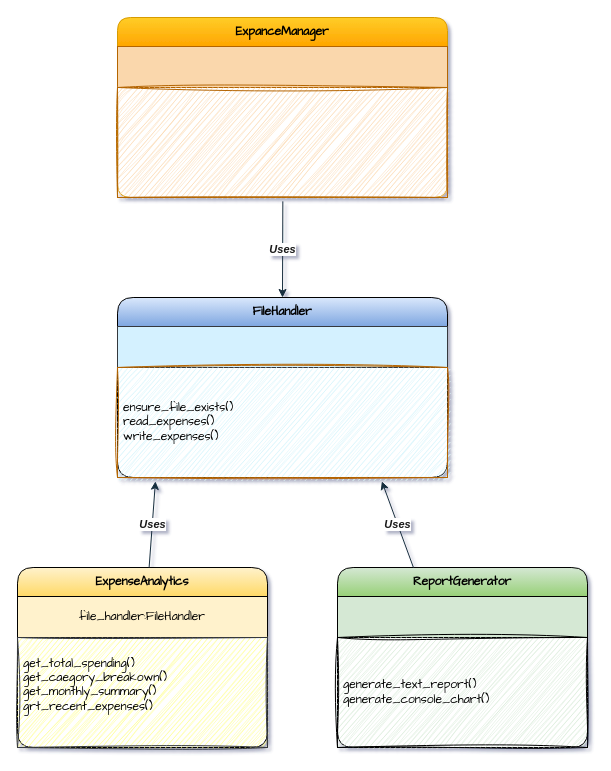
This 611x771 diagram has some shape labels left out. Here are the shapes that lost their labels. From the top down, the centre of each, then its label:
At (x=282, y=67): "file_handler:FileHandler catogries:list".
At (x=282, y=142): "add_expense() view_expendes() delete_expenses() get_categories()".
At (x=282, y=347): "filename: String".
At (x=462, y=617): "analytics:ExpenseAnalytics".
